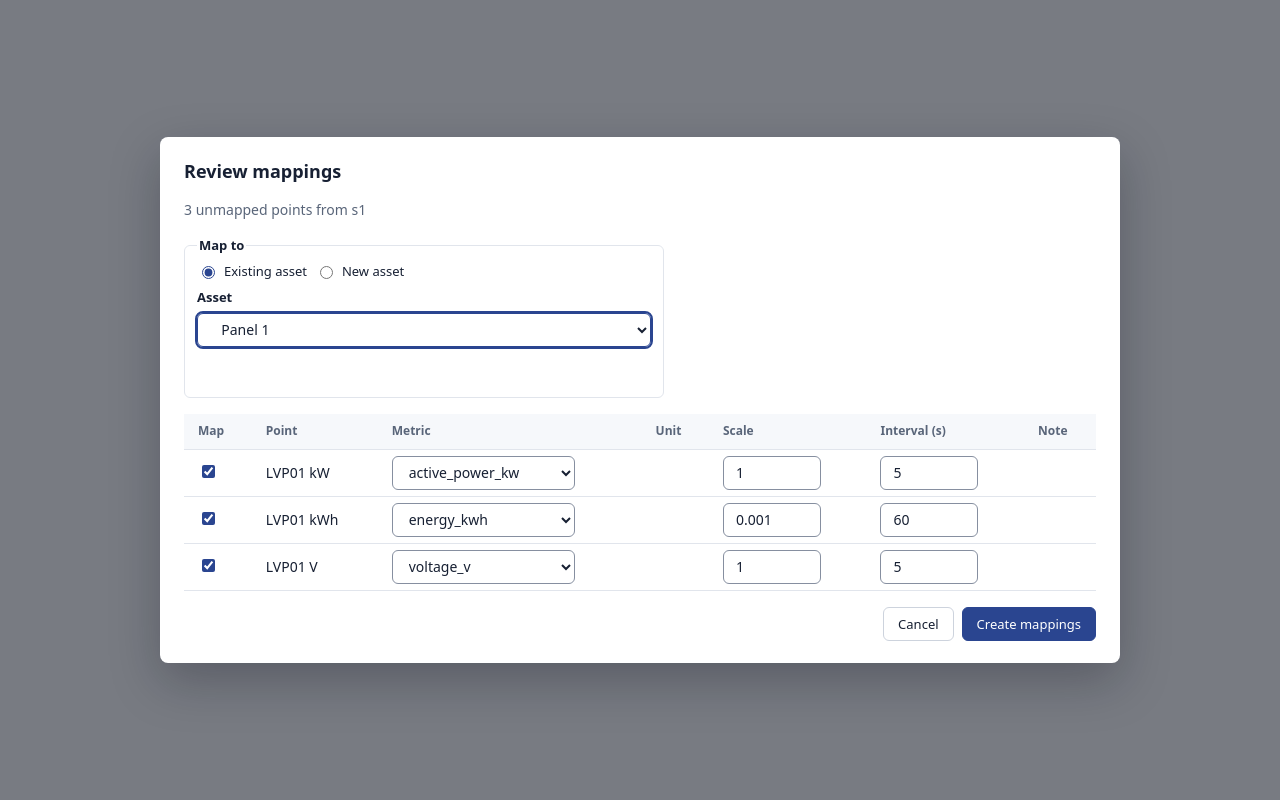
ReviewDialog › a scale that is not above zero, or a fractional interval, disables the button until fixed
This screenshot has width=1280, height=800.
Clear the number field named "Scale for LVP01 kW": [772, 473] box [723,456,821,490]
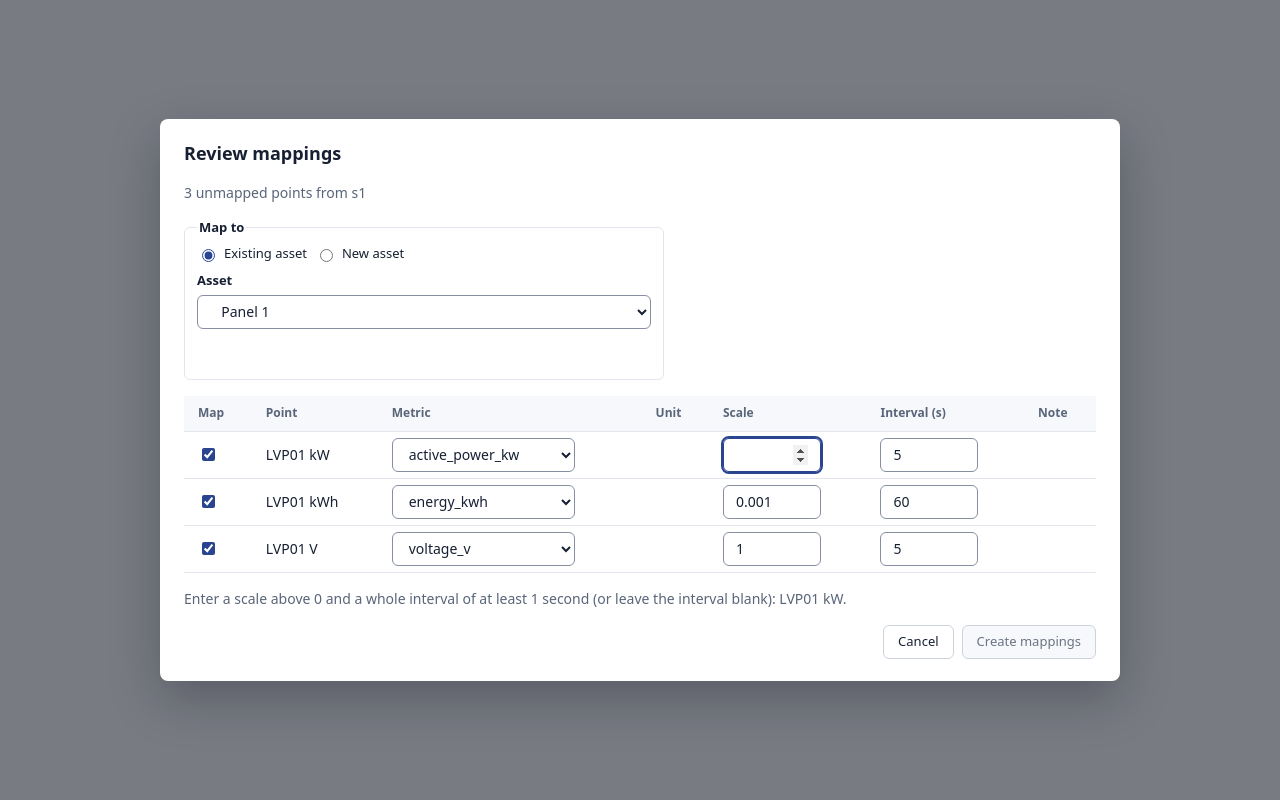
Now the button "Create mappings" is disabled, box [962,624,1096,658]
Now the text "scale above 0" is shown, box [184,589,846,608]
In the number field named "Scale for LVP01 kW": [772, 455] box [723,438,821,472], type "0"
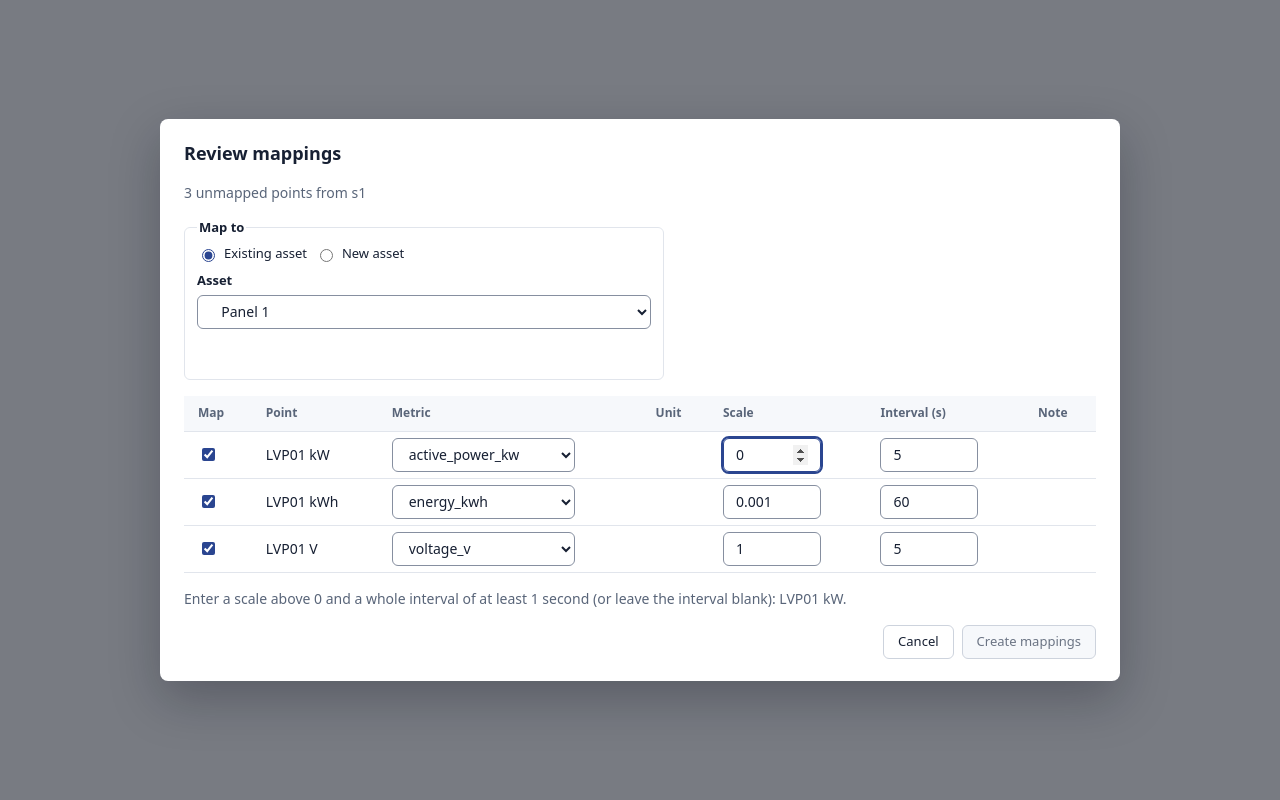
Now the button "Create mappings" is disabled, box [962,624,1096,658]
Replace the text in the number field named "Scale for LVP01 kW" with "2": [772, 455] box [723,438,821,472]
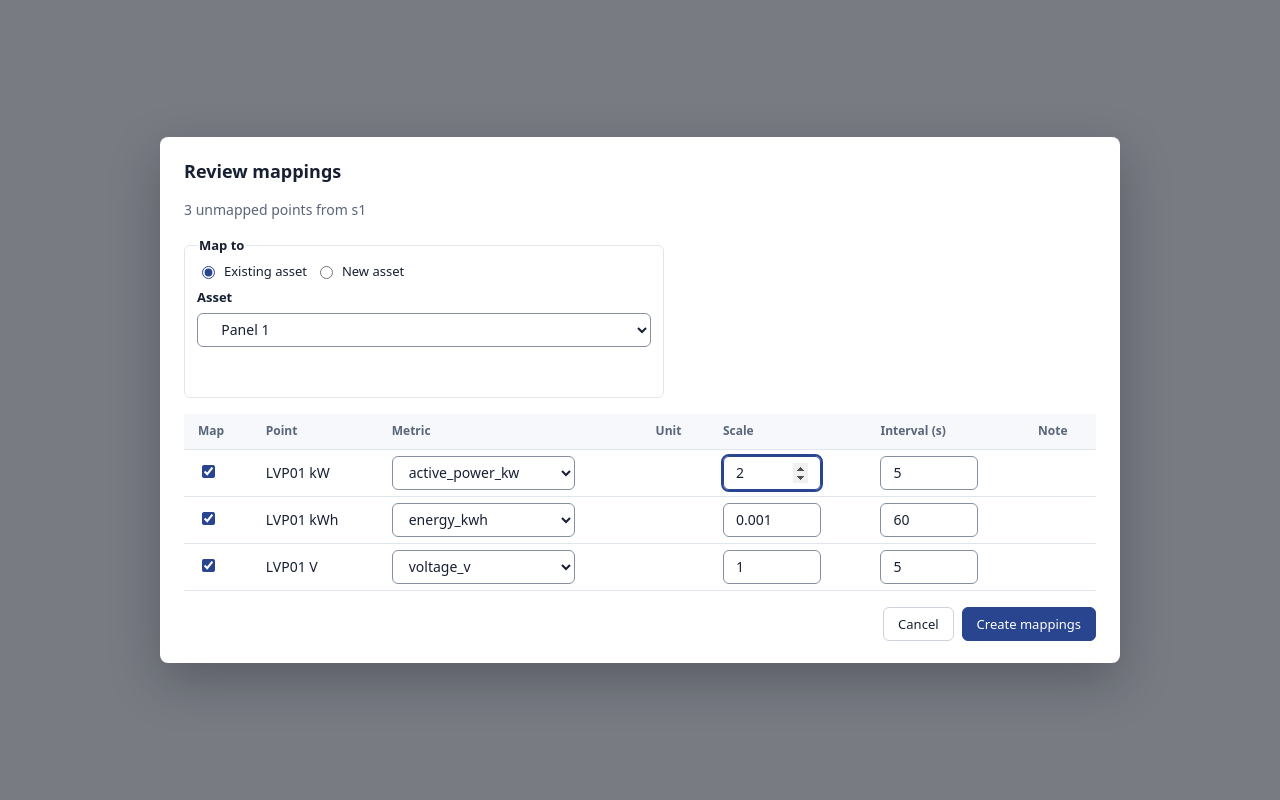
Now the button "Create mappings" is enabled, box [962,607,1096,641]
Replace the text in the number field named "Interval for LVP01 kW" with "2.5": [930, 473] box [880,456,978,490]
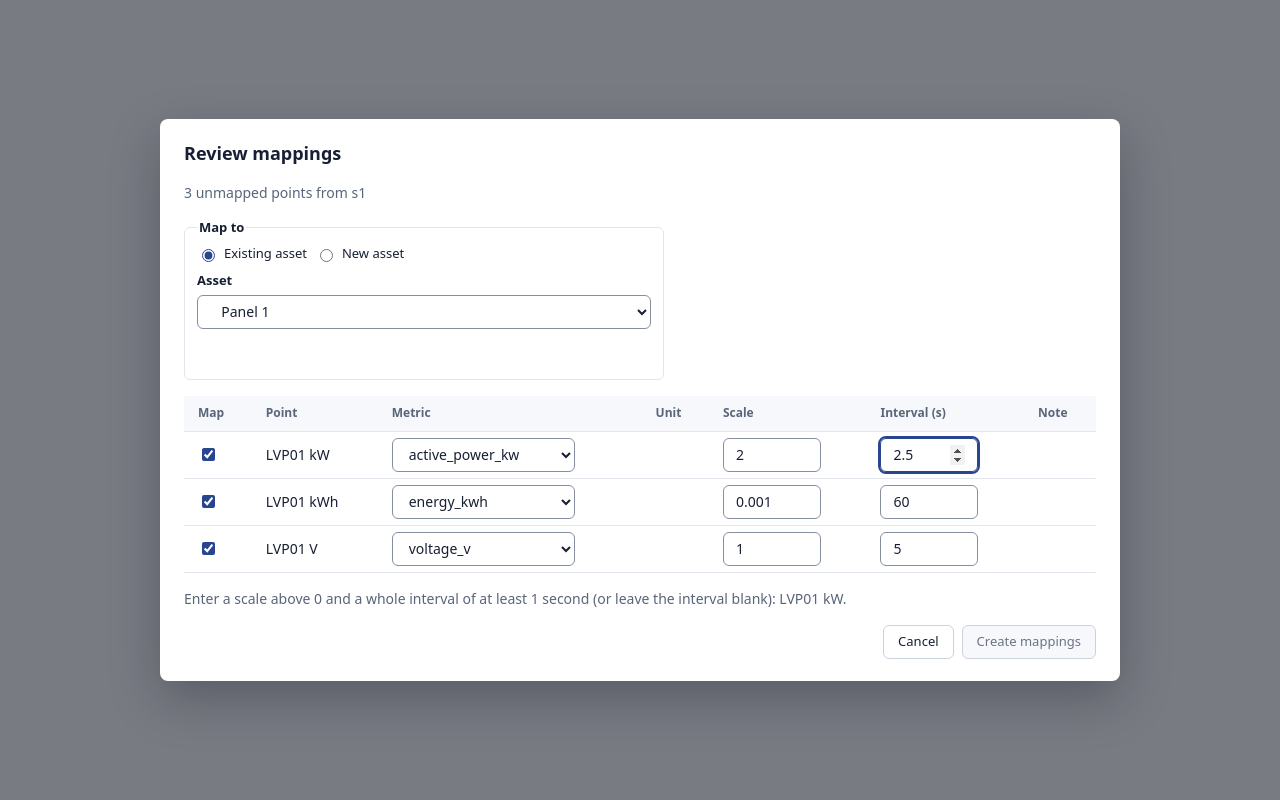
Now the button "Create mappings" is disabled, box [962,624,1096,658]
Click the checkbox named "Map LVP01 kW": [208, 454] box [202,448,215,461]
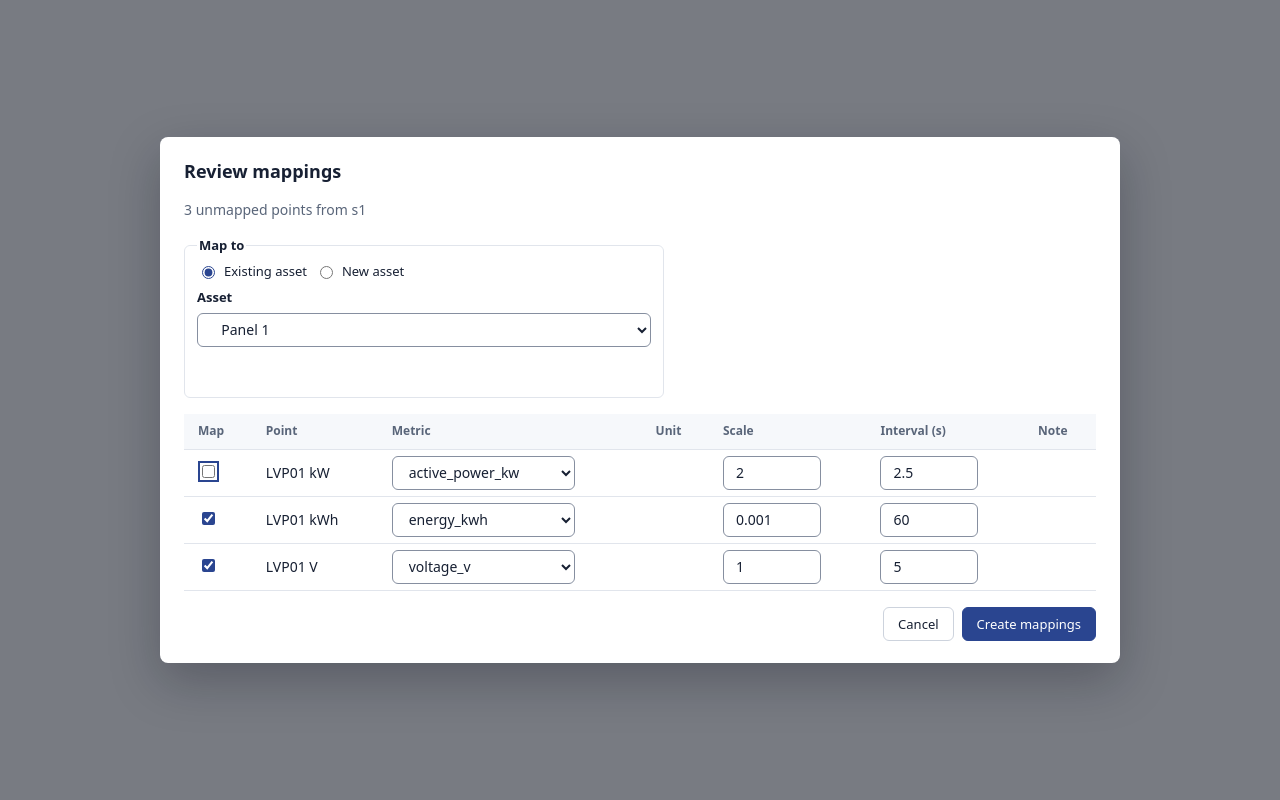
Now the button "Create mappings" is enabled, box [962,607,1096,641]
